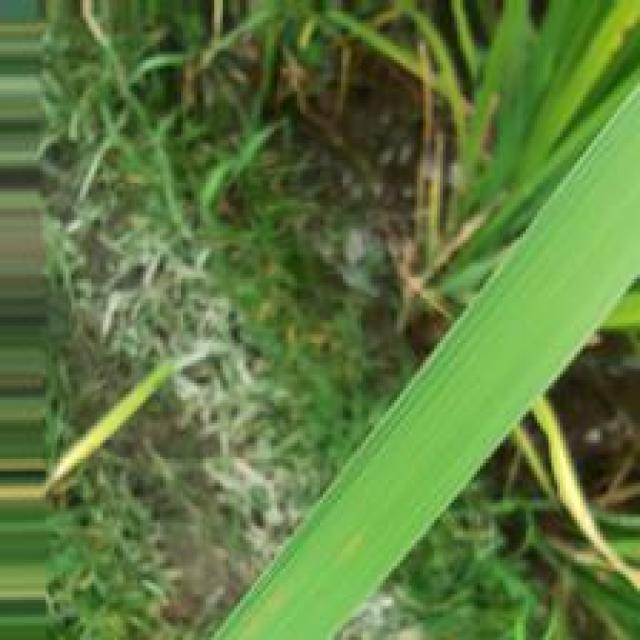HealthyLeaf: (308, 90, 639, 555)
